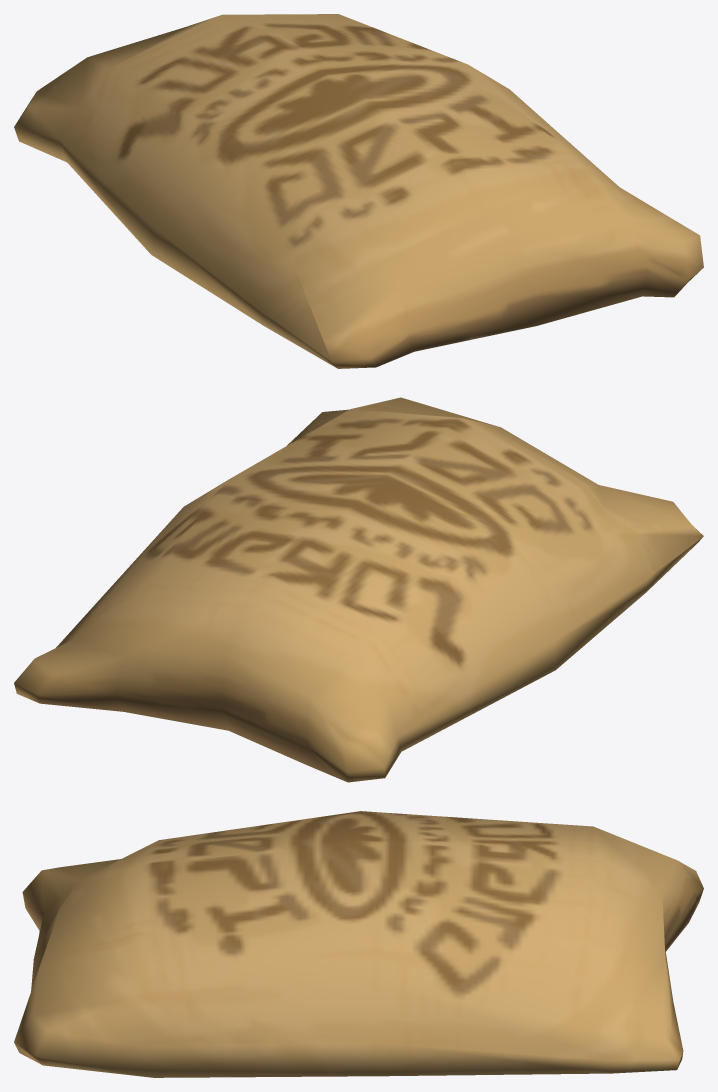
File: SM_PROP_sack_city_02.fbx
The picture shows the model from 3 angles, top to bottom: view 1: azimuth 30°, elevation 25°; view 2: azimuth 150°, elevation 25°; view 3: azimuth 270°, elevation 25°; orthographic projection.
Visible parts, largest first — view 1: SM_PROP_sack_city_02; view 2: SM_PROP_sack_city_02; view 3: SM_PROP_sack_city_02.
Boxes of the visible parts, x1,y1,x2,y2 form: SM_PROP_sack_city_02: [14, 14, 703, 368]; SM_PROP_sack_city_02: [14, 397, 703, 782]; SM_PROP_sack_city_02: [14, 811, 703, 1077].
Size of the model in its own units: 54.57 by 18.06 by 81.07.
